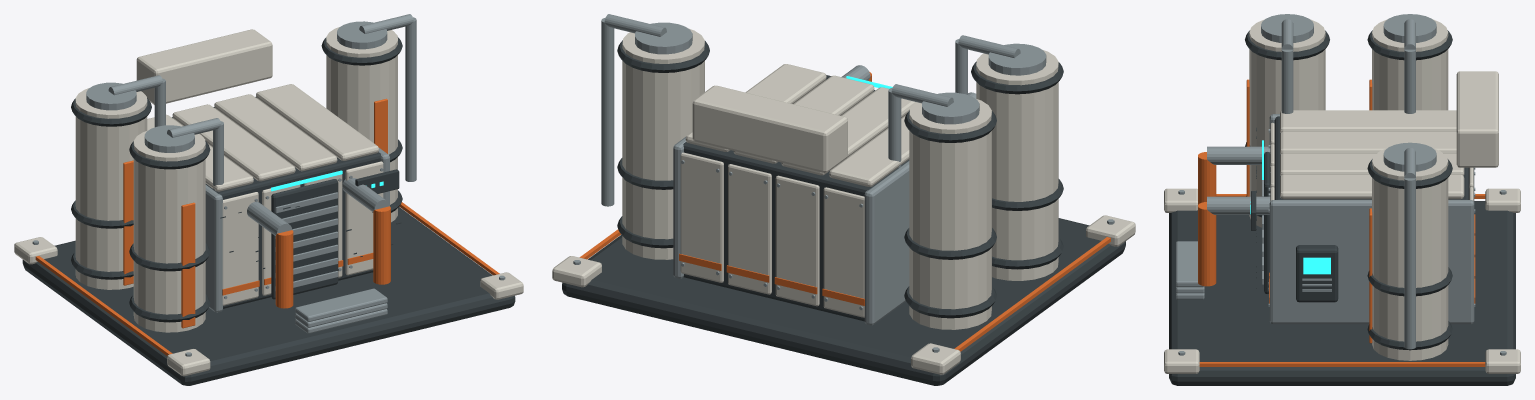
Rendered from SM_LifeSupportAssembly_Body.001.fbx.
The picture shows the model from 3 angles, left to right: view 1: azimuth 30°, elevation 25°; view 2: azimuth 150°, elevation 25°; view 3: azimuth 270°, elevation 25°; orthographic projection. The views are drawn at different scales.
Parts seen in each view (by area): view 1: SM_LifeSupportAssembly_Body.001; view 2: SM_LifeSupportAssembly_Body.001; view 3: SM_LifeSupportAssembly_Body.001.
Part boxes in pixels (x1,y1,x2,y2): SM_LifeSupportAssembly_Body.001: (14,14,523,385); SM_LifeSupportAssembly_Body.001: (552,14,1135,385); SM_LifeSupportAssembly_Body.001: (1164,14,1520,385).
Bounding box in the file's own units: 503 × 422 × 287.
